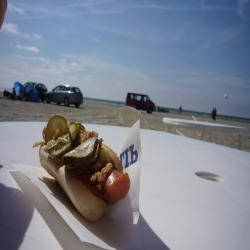burger: (23, 112, 147, 227)
